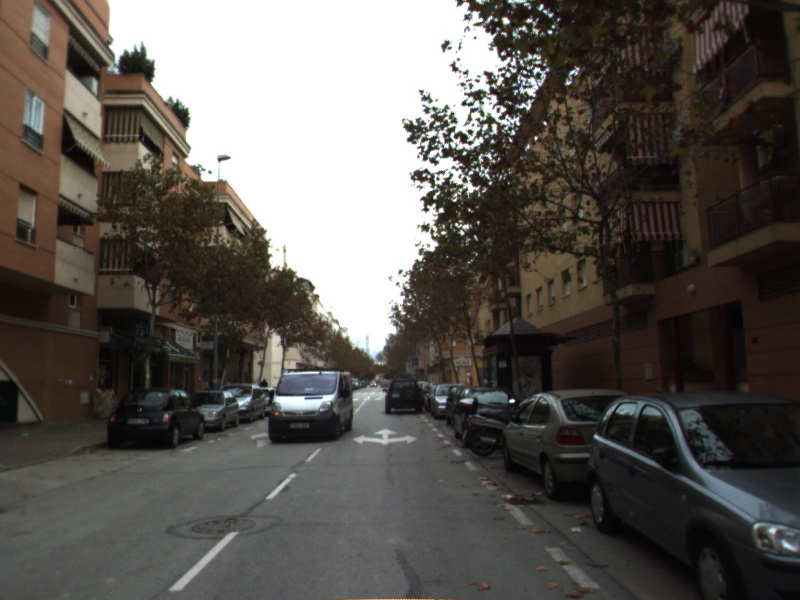STRAIGHT_LEFT_RIGHT: (350, 426, 421, 447)
